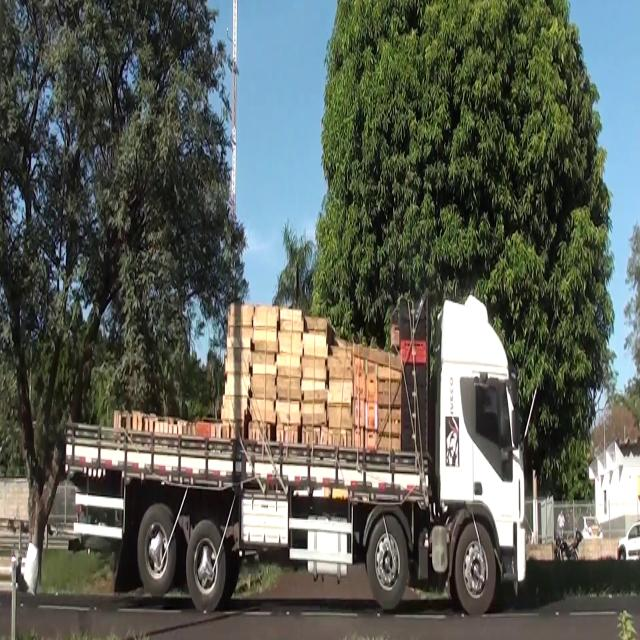-axle: (452, 514, 500, 612), (186, 514, 230, 613), (368, 507, 407, 611), (139, 506, 178, 592)
